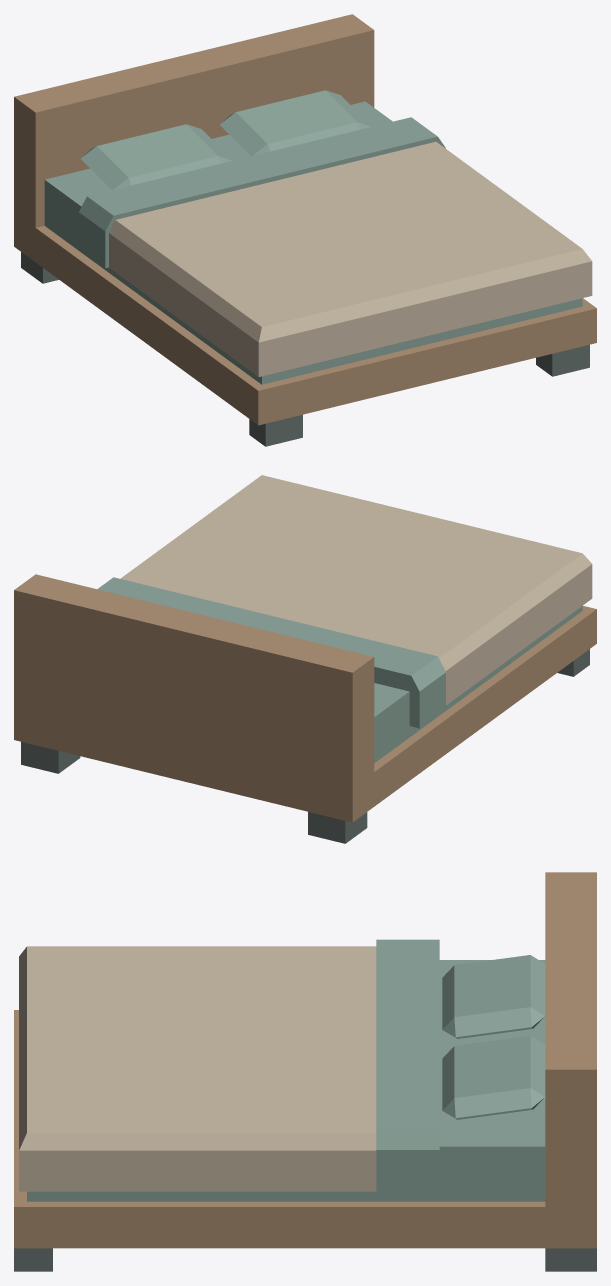
File: double_bed.glb
3 renders of one model, top to bottom at view 1: azimuth 30°, elevation 25°; view 2: azimuth 150°, elevation 25°; view 3: azimuth 270°, elevation 25°, orthographic. The views are drawn at different scales.
Visible parts, largest first — view 1: cover, bedDouble(Clone), pillowLeft, pillowRight; view 2: bedDouble(Clone), cover; view 3: cover, bedDouble(Clone), pillowLeft, pillowRight.
Part boxes in pixels (<box>): cover: <box>79,117,592,376</box>; bedDouble(Clone): <box>14,14,596,446</box>; pillowLeft: <box>80,124,232,189</box>; pillowRight: <box>219,90,371,156</box>; bedDouble(Clone): <box>14,574,596,843</box>; cover: <box>97,475,592,728</box>; cover: <box>19,939,439,1193</box>; bedDouble(Clone): <box>14,872,596,1271</box>; pillowLeft: <box>442,955,545,1038</box>; pillowRight: <box>442,1036,545,1119</box>.
Bounding box in the file's own units: 1.65 × 0.8 × 2.05.
